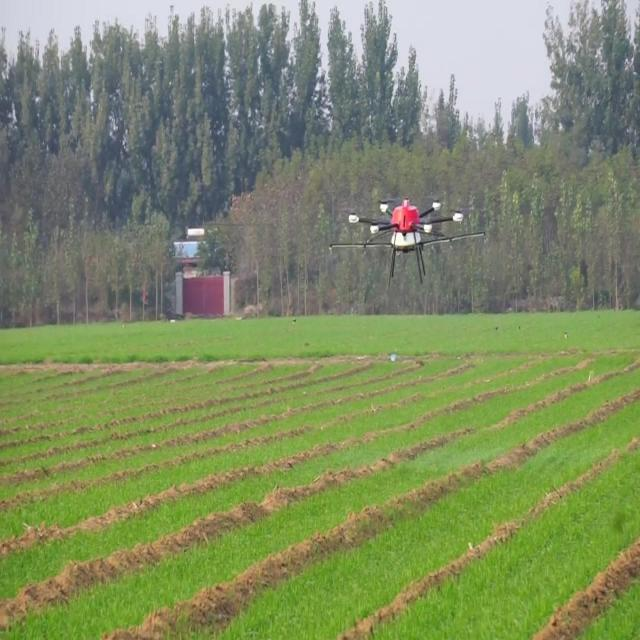UAV: (330, 197, 486, 286)
